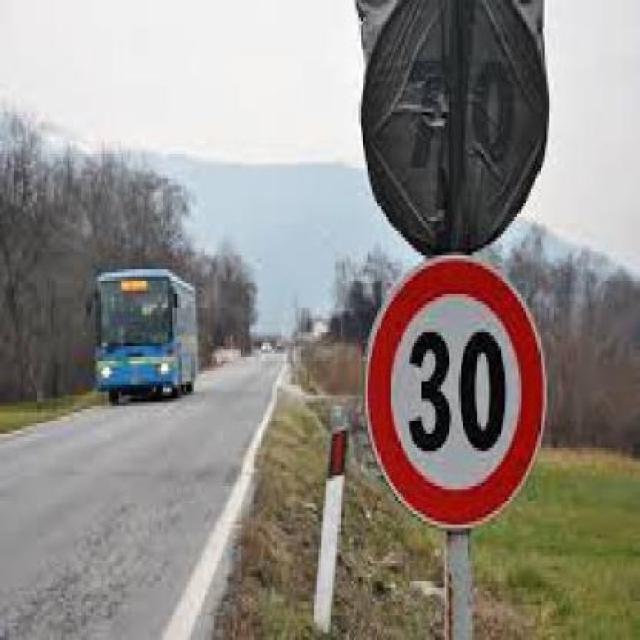forb_speed_over_30: (369, 255, 540, 529)
